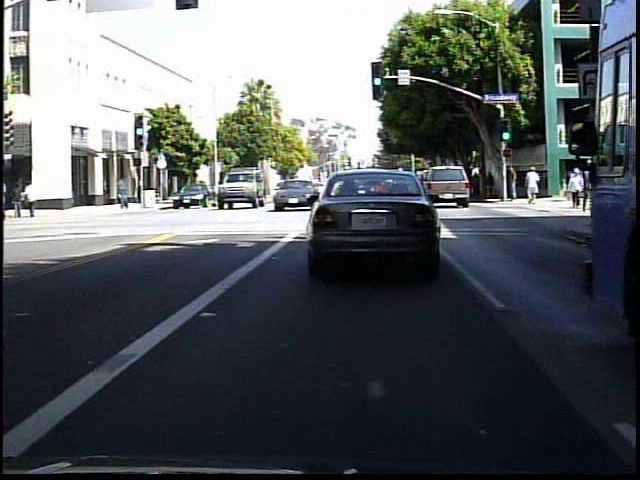person: (503, 161, 523, 206), (523, 165, 541, 207), (25, 179, 43, 220), (114, 175, 131, 212), (13, 182, 26, 219), (471, 172, 484, 202), (484, 169, 495, 200)
